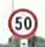limite 50: (7, 7, 38, 38)
